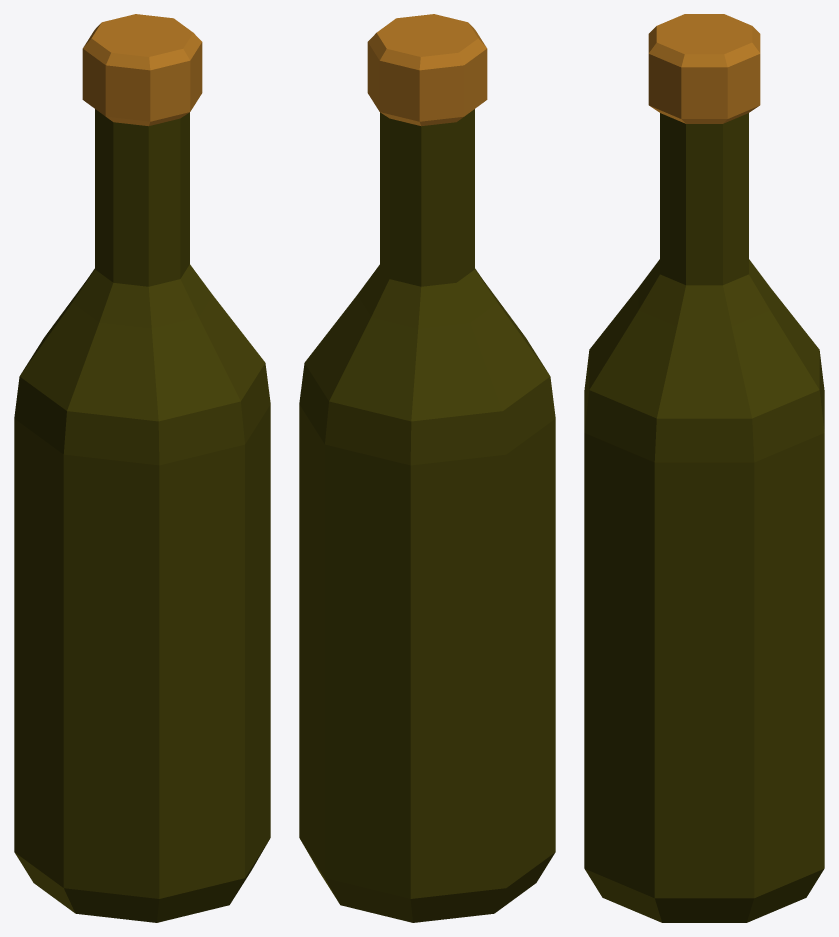
Rendered from SM_Clutter_Bottle_Olive_01.glb.
The picture shows the model from 3 angles, left to right: view 1: azimuth 30°, elevation 25°; view 2: azimuth 150°, elevation 25°; view 3: azimuth 270°, elevation 25°; orthographic projection.
Visible parts, largest first — view 1: SM_Clutter_Bottle_Olive_01; view 2: SM_Clutter_Bottle_Olive_01; view 3: SM_Clutter_Bottle_Olive_01.
Part boxes in pixels (x1,y1,x2,y2): SM_Clutter_Bottle_Olive_01: [14, 14, 270, 922]; SM_Clutter_Bottle_Olive_01: [299, 14, 555, 922]; SM_Clutter_Bottle_Olive_01: [584, 14, 824, 922].
Bounding box in the file's own units: 0.0674 × 0.262 × 0.0674.
Materials: 1 (1 with a texture image).
